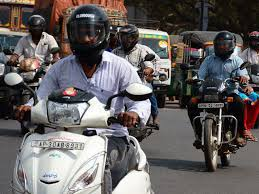helmet: (61, 6, 114, 61), (207, 29, 236, 62), (114, 20, 142, 51), (23, 12, 49, 37)
